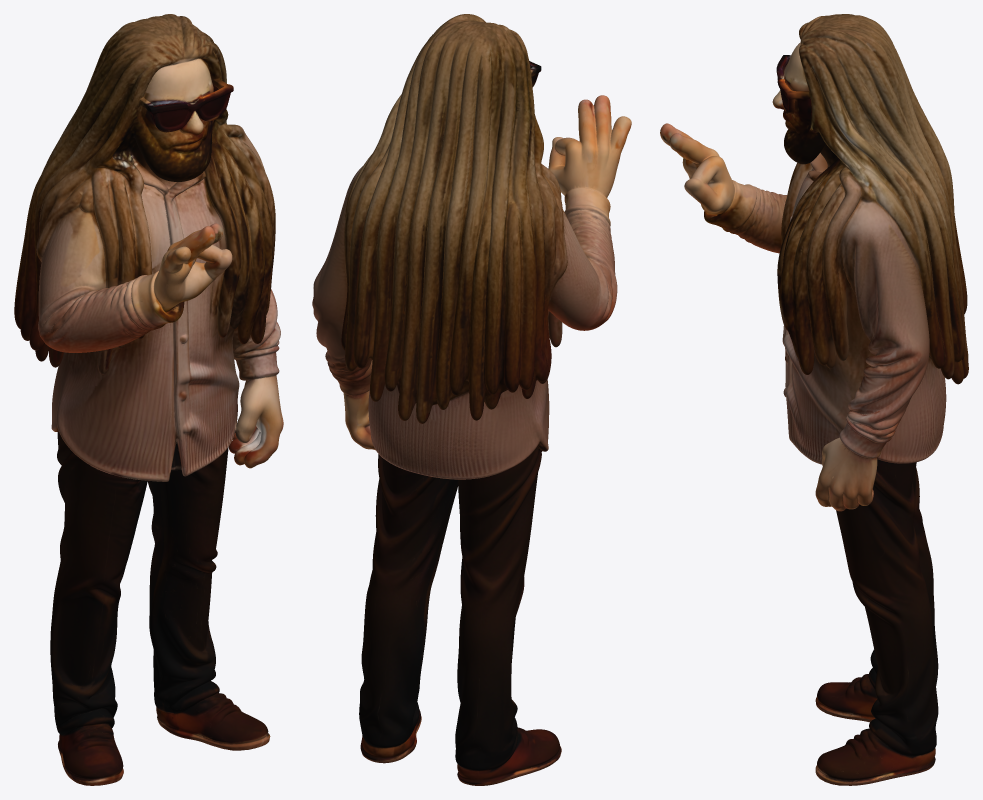
Rendered from JahMan  Deadlocks good.glb.
3 views of the same model, side by side, from view 1: azimuth 30°, elevation 25°; view 2: azimuth 150°, elevation 25°; view 3: azimuth 270°, elevation 25° (orthographic). The views are drawn at different scales.
Parts seen in each view (by area): view 1: material.001; view 2: material.001; view 3: material.001.
Boxes of the visible parts, x1=… form: material.001: x1=14, y1=14, x2=283, y2=785; material.001: x1=312, y1=14, x2=631, y2=785; material.001: x1=660, y1=14, x2=968, y2=785.
Size of the model in its own units: 0.4252 by 1.14 by 0.4435.
1 material, 1 textured.
